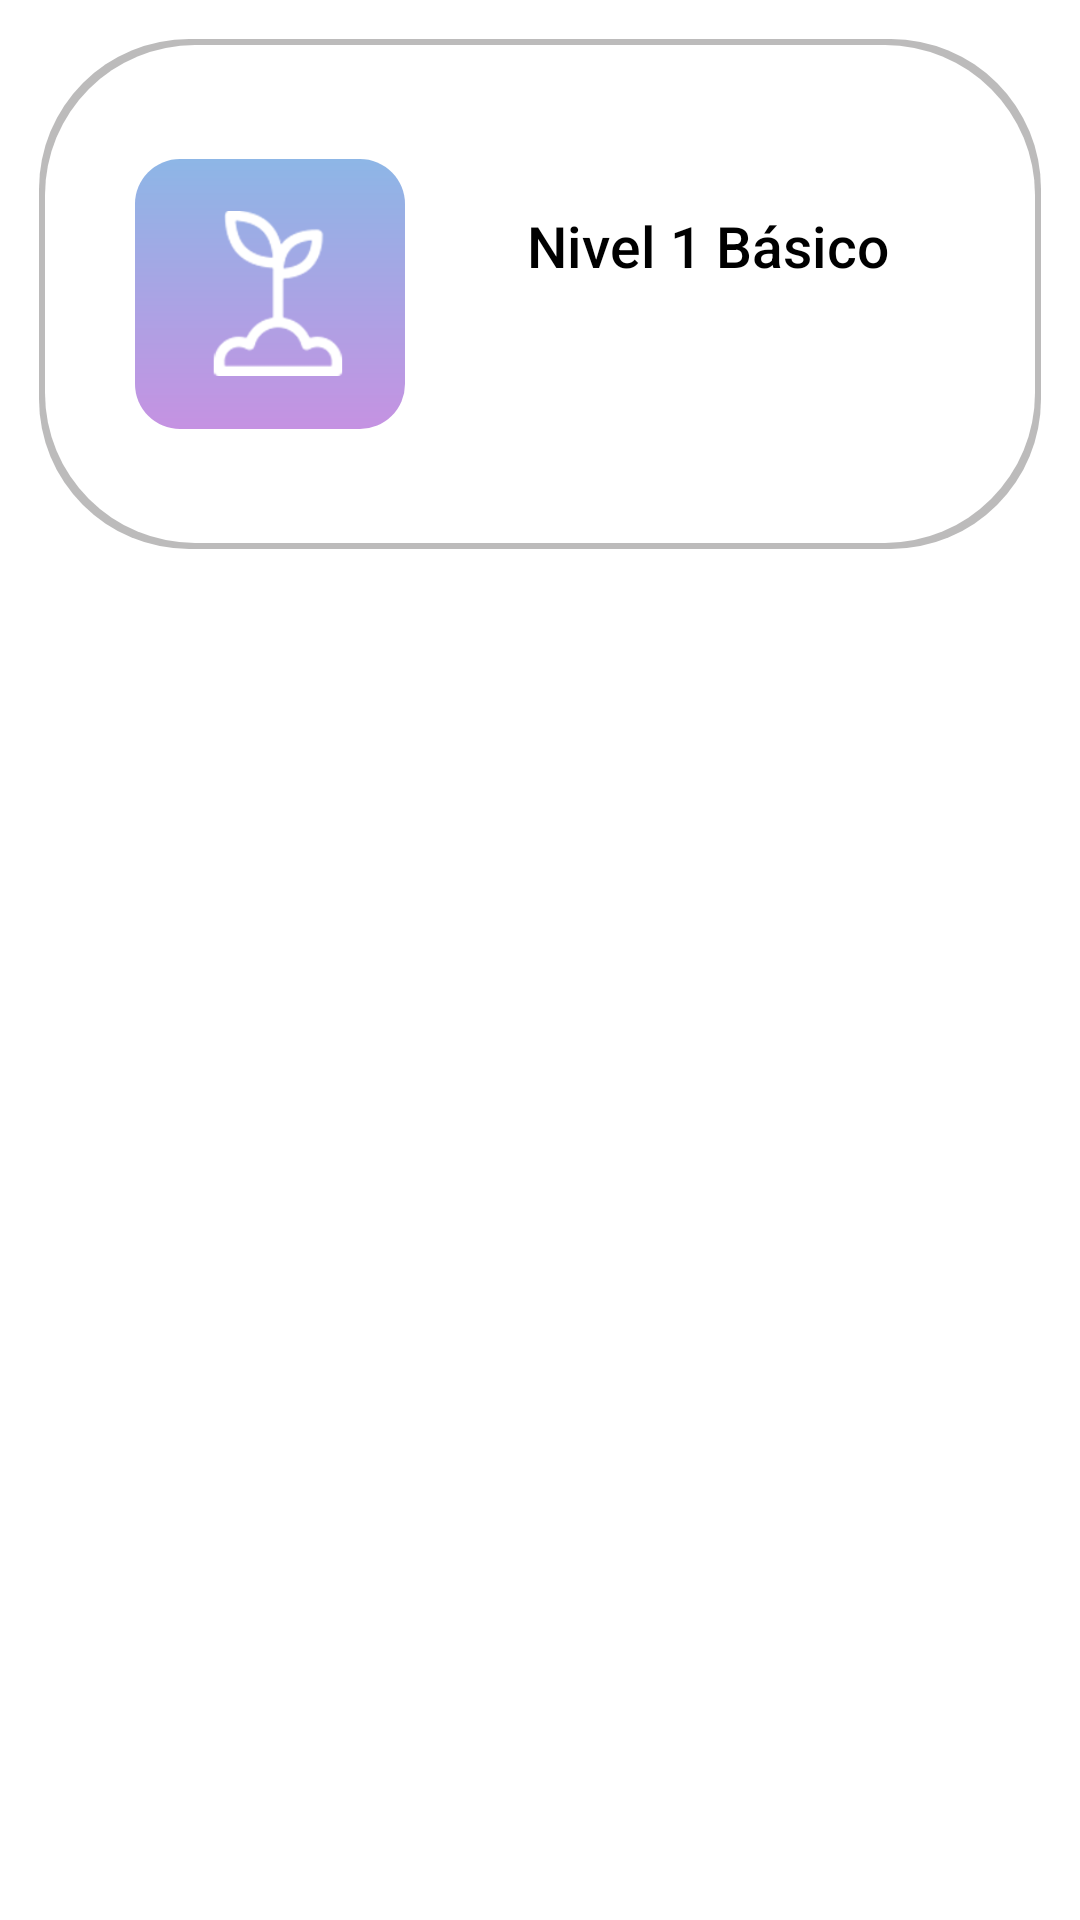

Icons on this 1080px×1920px Android screen, each with the point to tap as (x,y):
basico: (274,293)
